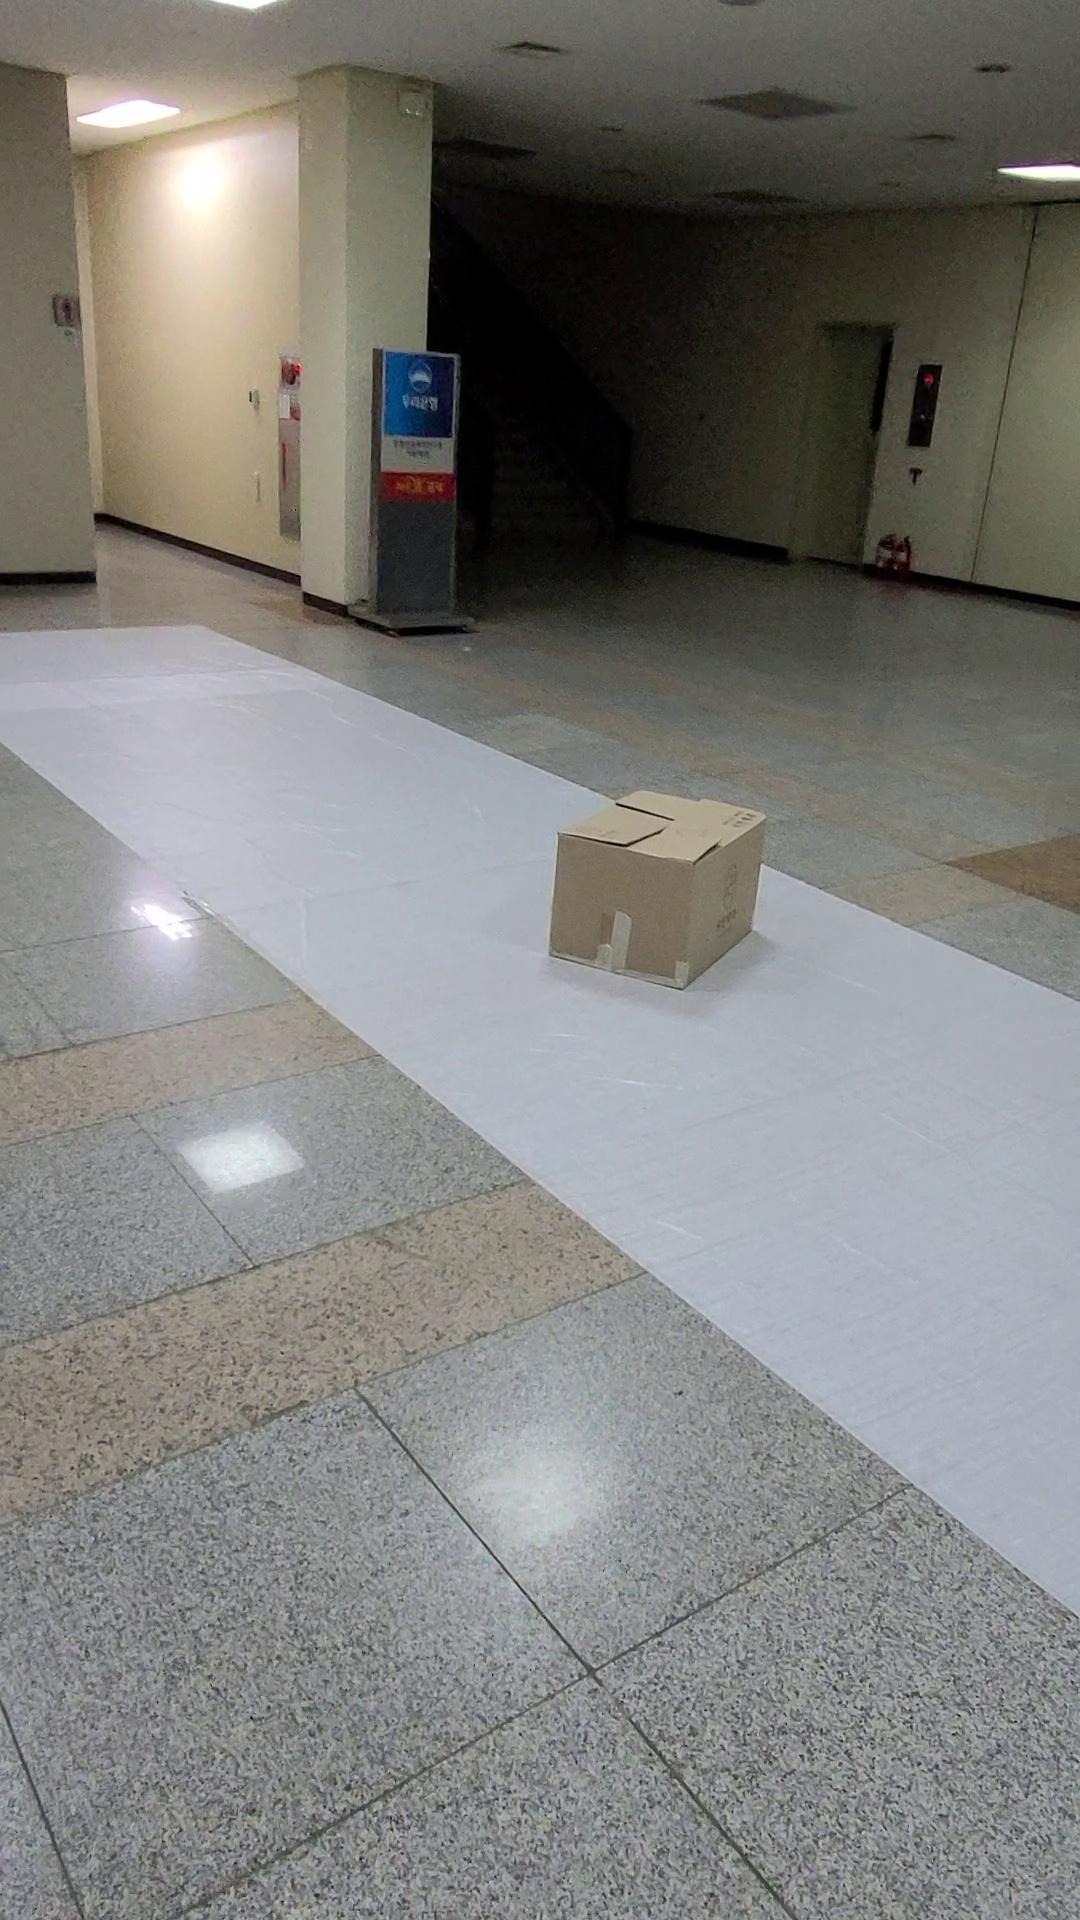Box: (516, 764, 815, 1023)
